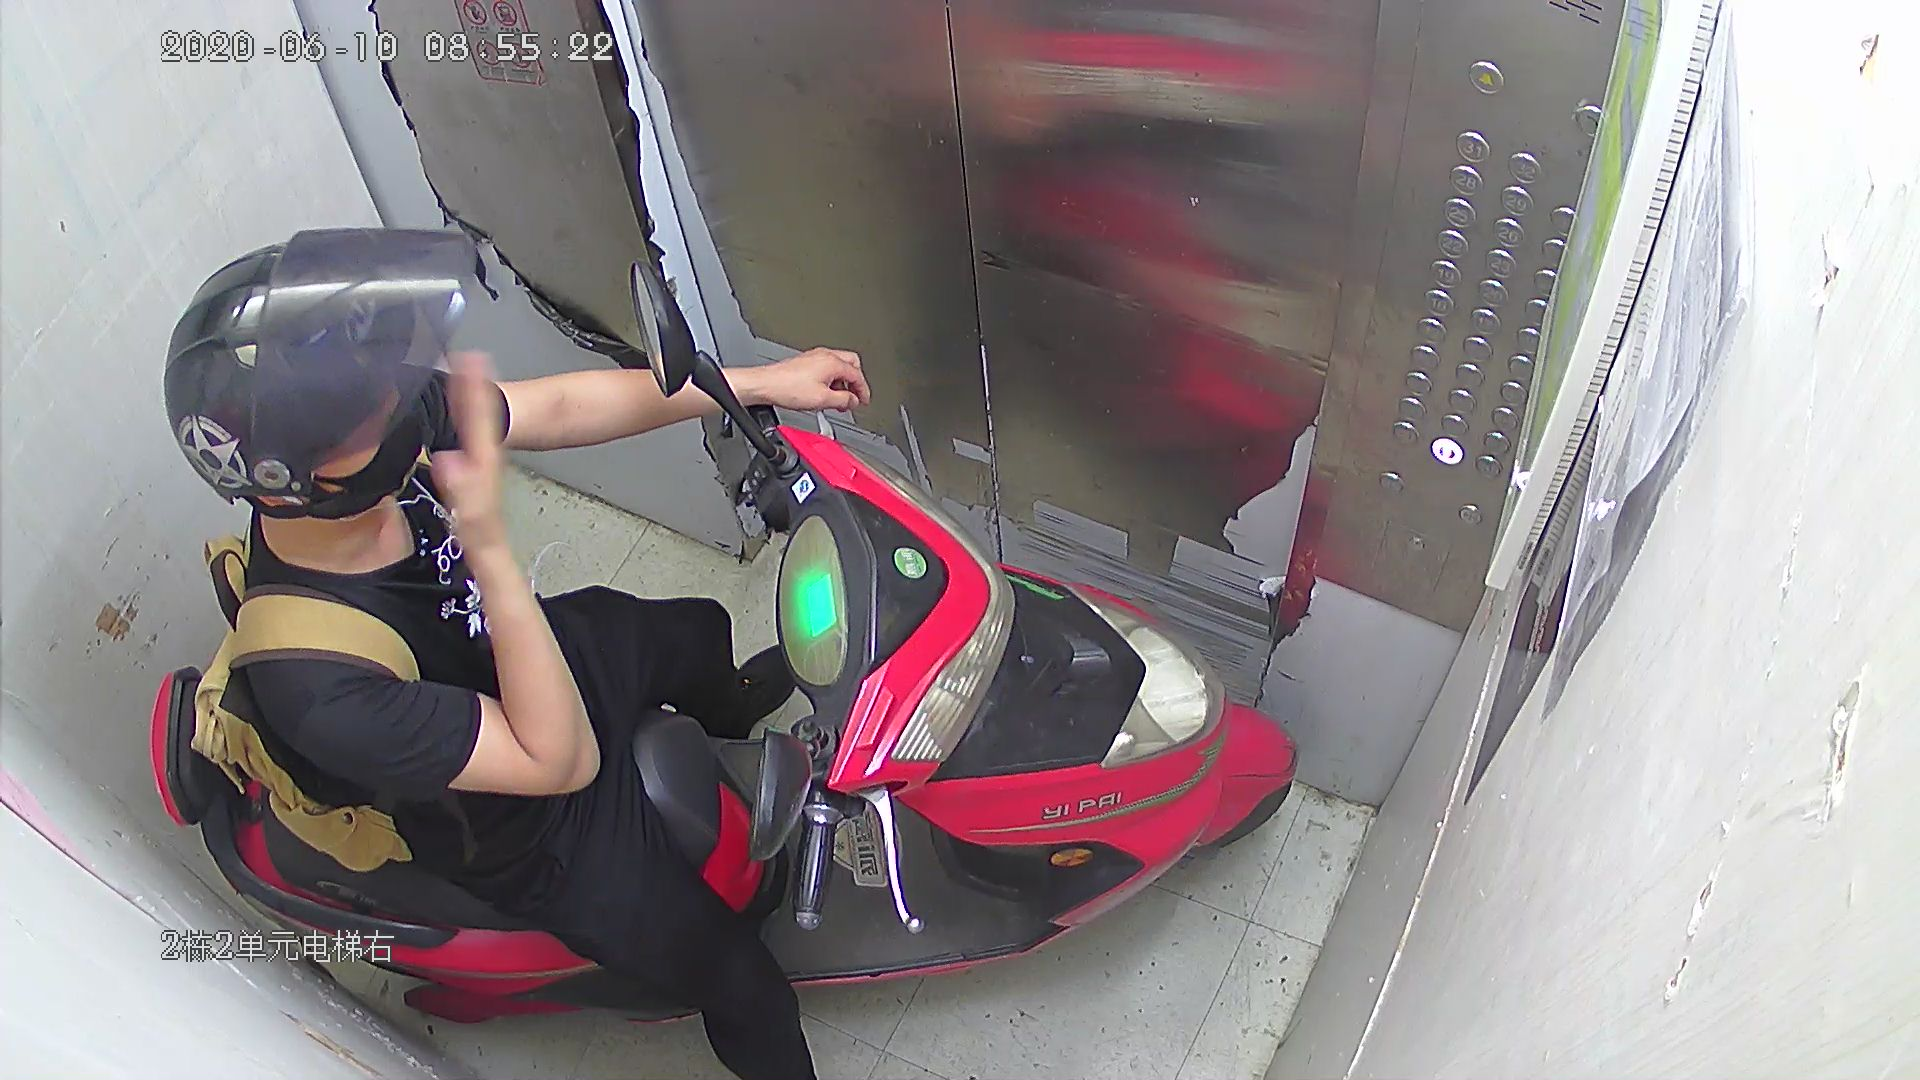Electric-bicycle: (154, 262, 1279, 1015)
